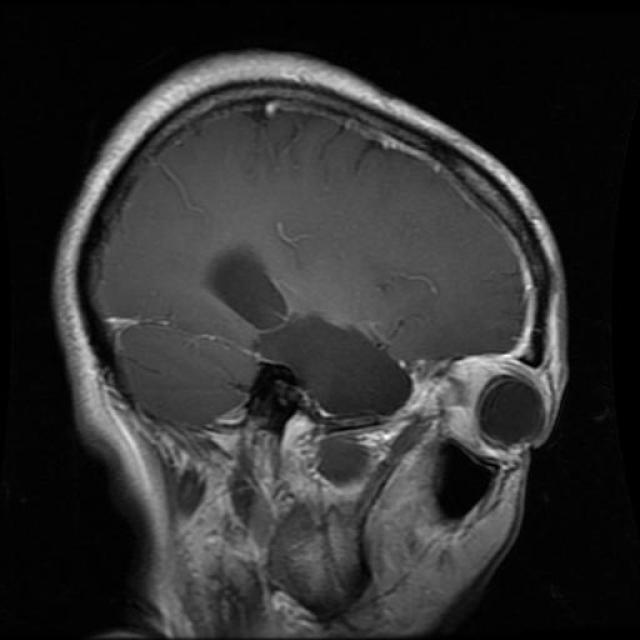glioma: (198, 242, 304, 332)
